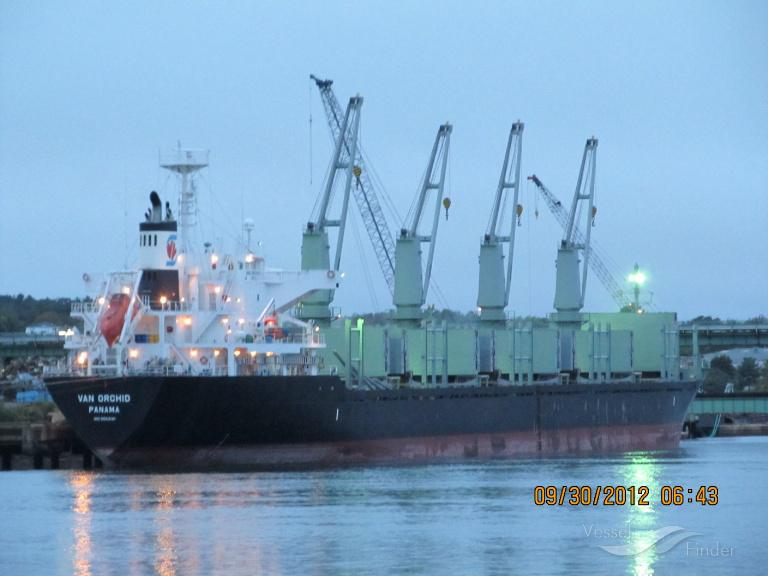OCR: (72, 390, 138, 426)
